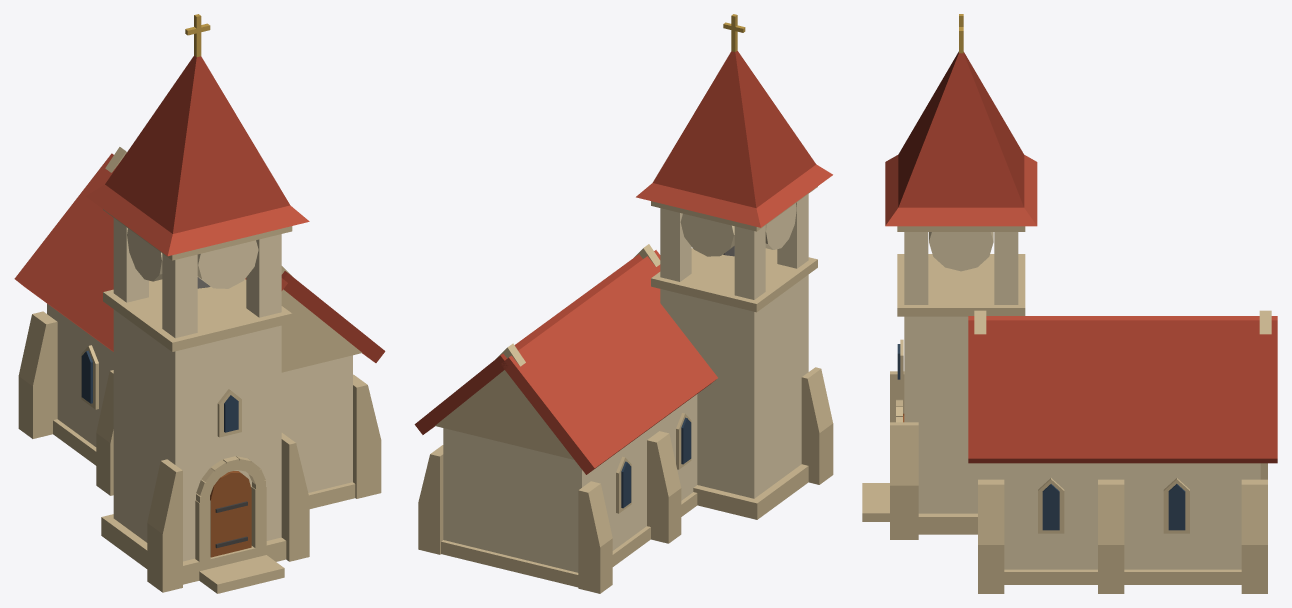
The model's file is chapel.glb.
The picture shows the model from 3 angles, left to right: view 1: azimuth 30°, elevation 25°; view 2: azimuth 150°, elevation 25°; view 3: azimuth 270°, elevation 25°; orthographic projection. The views are drawn at different scales.
Parts seen in each view (by area): view 1: chapel_stein, chapel_stein_dunkel, chapel_dach_dunkel, chapel_dach, chapel_tuer, chapel_glas; view 2: chapel_stein, chapel_stein_dunkel, chapel_dach, chapel_dach_dunkel, chapel_glas; view 3: chapel_dach_dunkel, chapel_stein, chapel_stein_dunkel, chapel_dach, chapel_glas.
Part boxes in pixels (x1,y1,x2,y2): chapel_stein: [47, 218, 352, 561]; chapel_stein_dunkel: [18, 147, 381, 593]; chapel_dach_dunkel: [105, 55, 385, 362]; chapel_dach: [14, 153, 309, 351]; chapel_tuer: [210, 471, 251, 557]; chapel_glas: [81, 350, 238, 432]; chapel_stein: [443, 194, 808, 572]; chapel_stein_dunkel: [418, 186, 833, 593]; chapel_dach: [501, 164, 832, 474]; chapel_dach_dunkel: [414, 51, 816, 434]; chapel_glas: [621, 417, 691, 508]; chapel_dach_dunkel: [898, 51, 1277, 463]; chapel_stein: [904, 232, 1260, 569]; chapel_stein_dunkel: [862, 226, 1271, 593]; chapel_dach: [885, 155, 1277, 320]; chapel_glas: [897, 344, 1185, 530].
Size of the model in its own units: 2.38 by 4.53 by 3.46.
